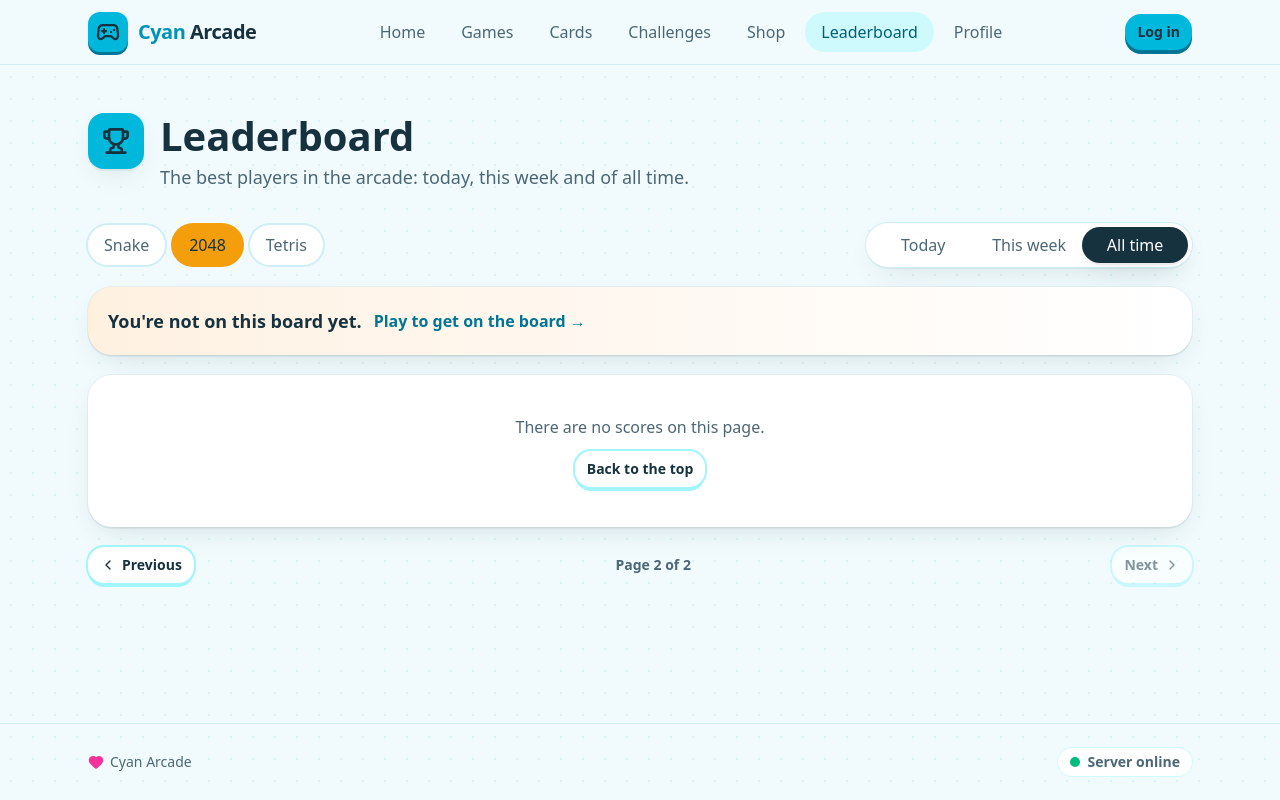
leaderboard page › offers a way back when the URL points past the last page
Expected: the text "There are no scores on this page." is shown, [516,415,764,439]
Click the button "Back to the top" at (640, 469), box [575,451,705,487]
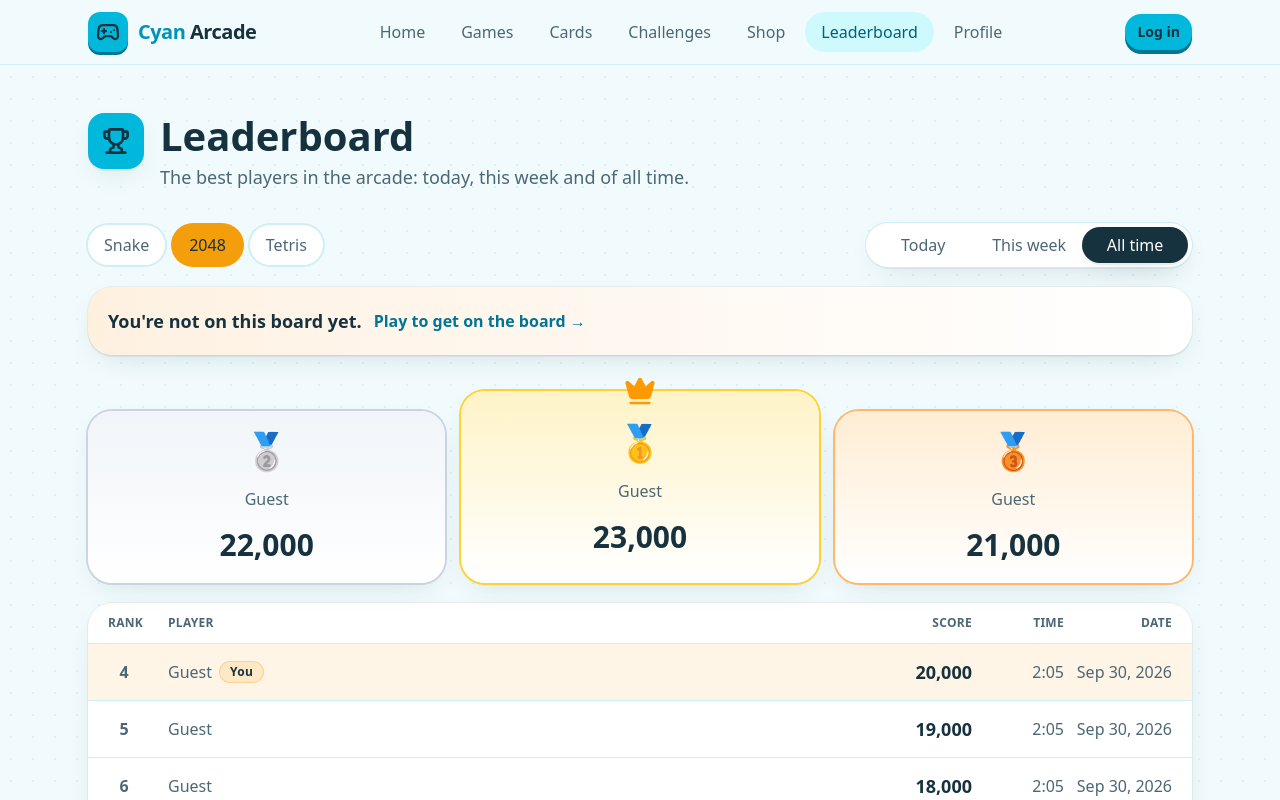
Expected: the list named "Top 3 in 2048" is shown, [88,375,1192,583]
